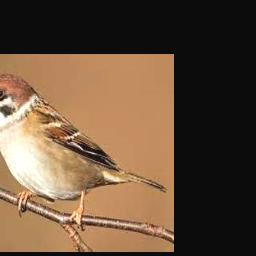Sparrow: (0, 73, 167, 230)
